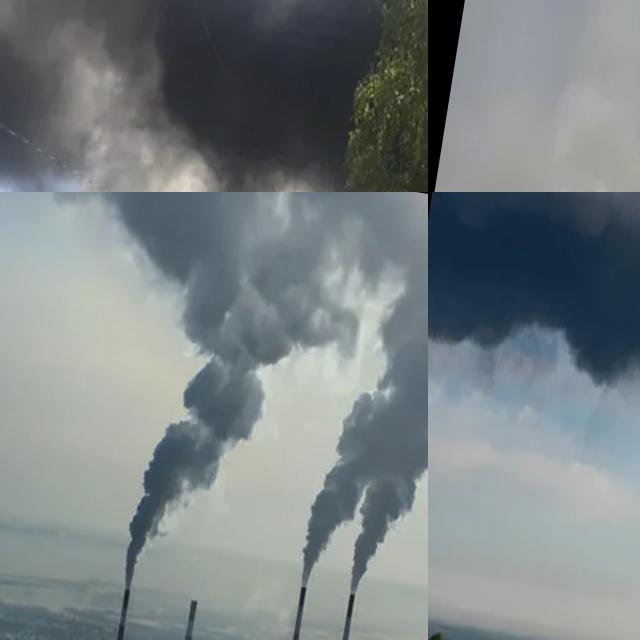smoke: (82, 192, 325, 606), (428, 192, 640, 640), (86, 0, 428, 192), (301, 193, 428, 602)
